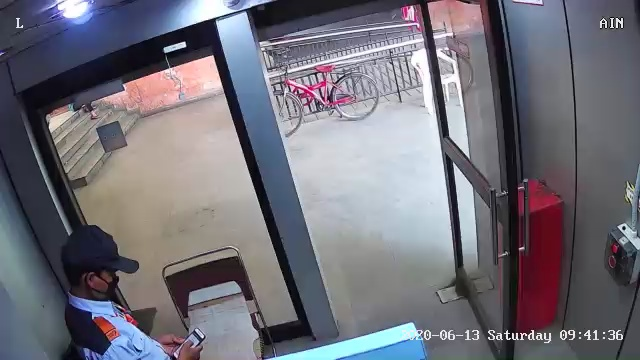open: (205, 4, 541, 349)
